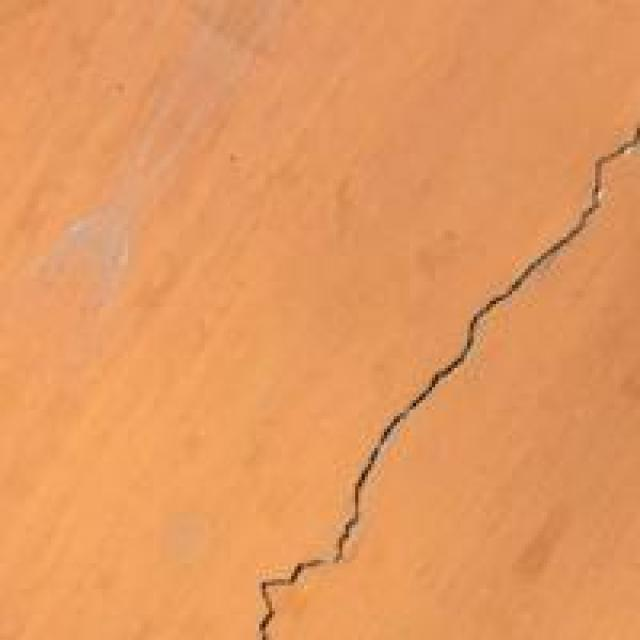crack: (214, 125, 637, 637)
